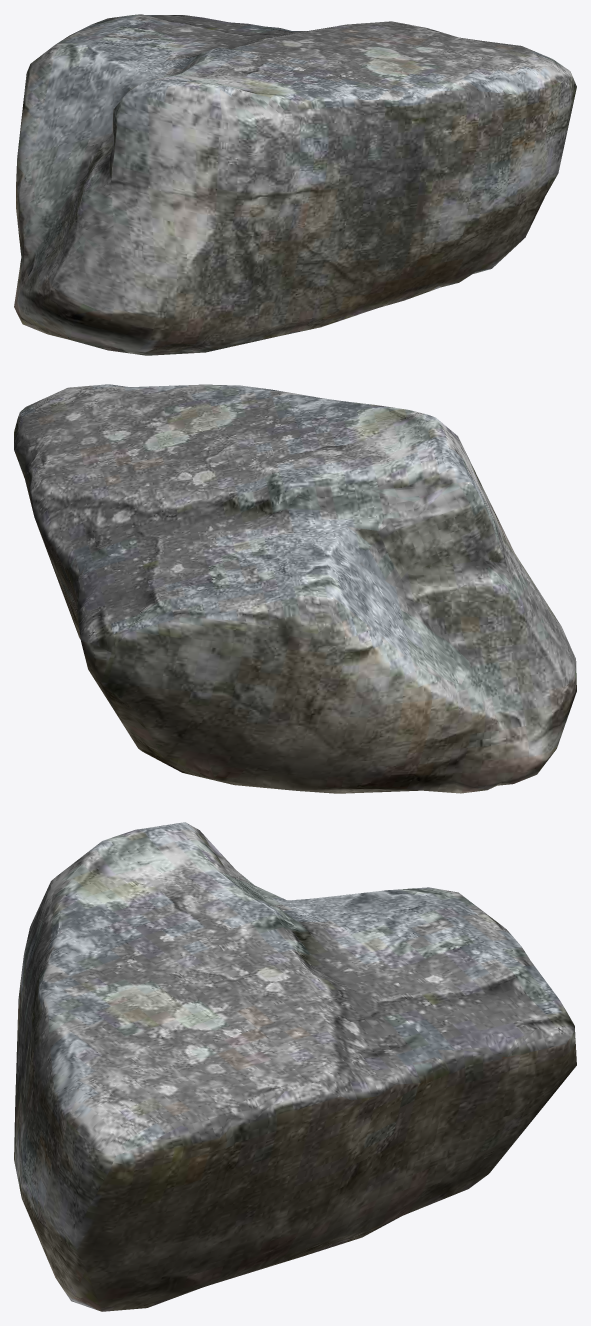
3 views of the same model, one above another, from view 1: azimuth 30°, elevation 25°; view 2: azimuth 150°, elevation 25°; view 3: azimuth 270°, elevation 25° (orthographic). The views are drawn at different scales.
Parts seen in each view (by area): view 1: rock01; view 2: rock01; view 3: rock01.
Part boxes in pixels (left/top/right/bottom): rock01: left=14, top=14, right=576, bottom=355; rock01: left=14, top=384, right=576, bottom=793; rock01: left=14, top=822, right=576, bottom=1311.
Bounding box in the file's own units: 99.37 × 46.61 × 74.99.
1 material, 1 textured.
